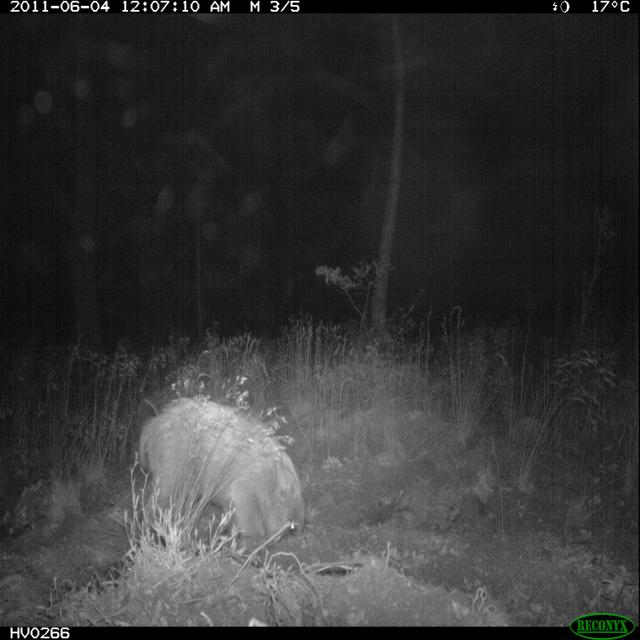boar: (116, 384, 315, 572)
